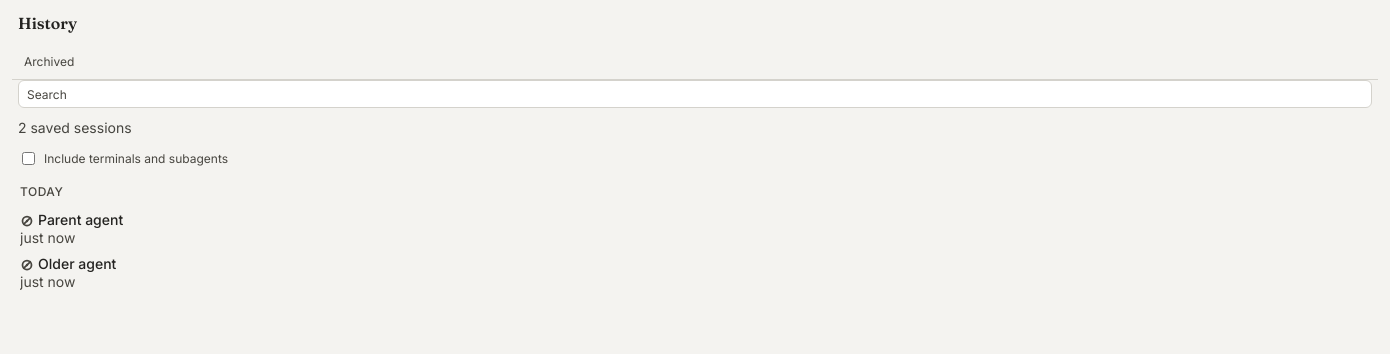
Test: HistoryPanel › hides an archived child the roster no longer lists, and lists it with the toggle on
The image size is (1390, 354).
Expected: the number of buttons with class "history-row-main" is 2, [12,208,1378,250]; [12,252,1378,294]
Expected: the text "Child agent" is not shown
Click the checkbox labelled "Include terminals and subagents": (28, 158) [22,152,35,165]
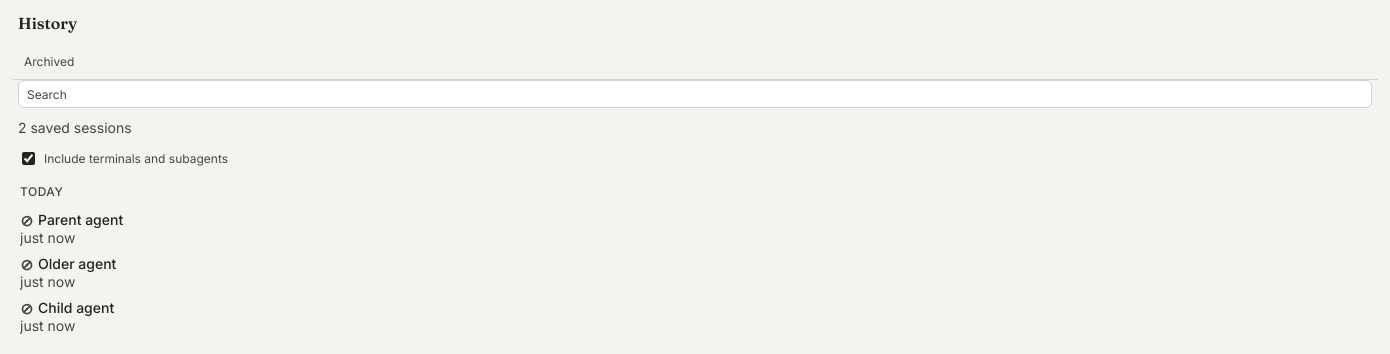
Now the number of buttons with class "history-row-main" is 3, box [12,208,1378,250]; [12,252,1378,294]; [12,296,1378,338]
Now the text "Child agent" is shown, box [38,300,114,316]
